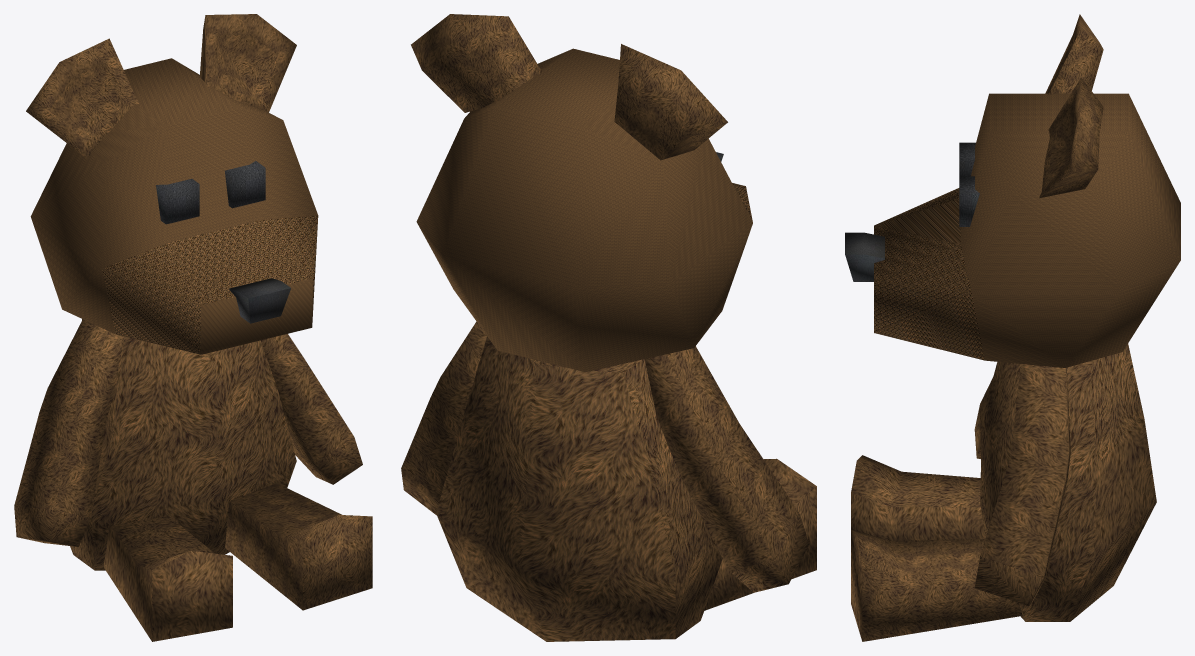
Rendered from Free guy - Teddy bear.FBX.
3 views of the same model, side by side, from view 1: azimuth 30°, elevation 25°; view 2: azimuth 150°, elevation 25°; view 3: azimuth 270°, elevation 25° (orthographic). The views are drawn at different scales.
Visible parts, largest first — view 1: ere; view 2: ere; view 3: ere.
Part boxes in pixels (x1,y1,x2,y2): ere: [14, 14, 372, 641]; ere: [401, 14, 816, 641]; ere: [845, 14, 1180, 641].
Size of the model in its own units: 24.58 by 36.51 by 20.86.
3 materials, 3 textured.
